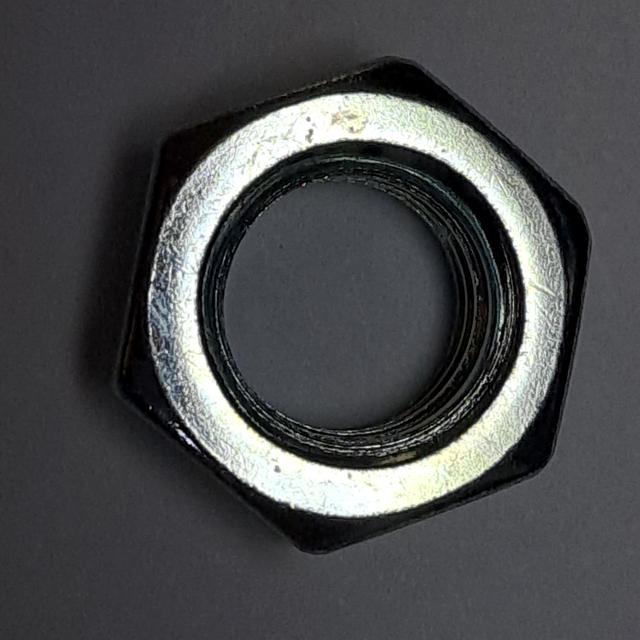Excellent: (94, 45, 603, 577)
